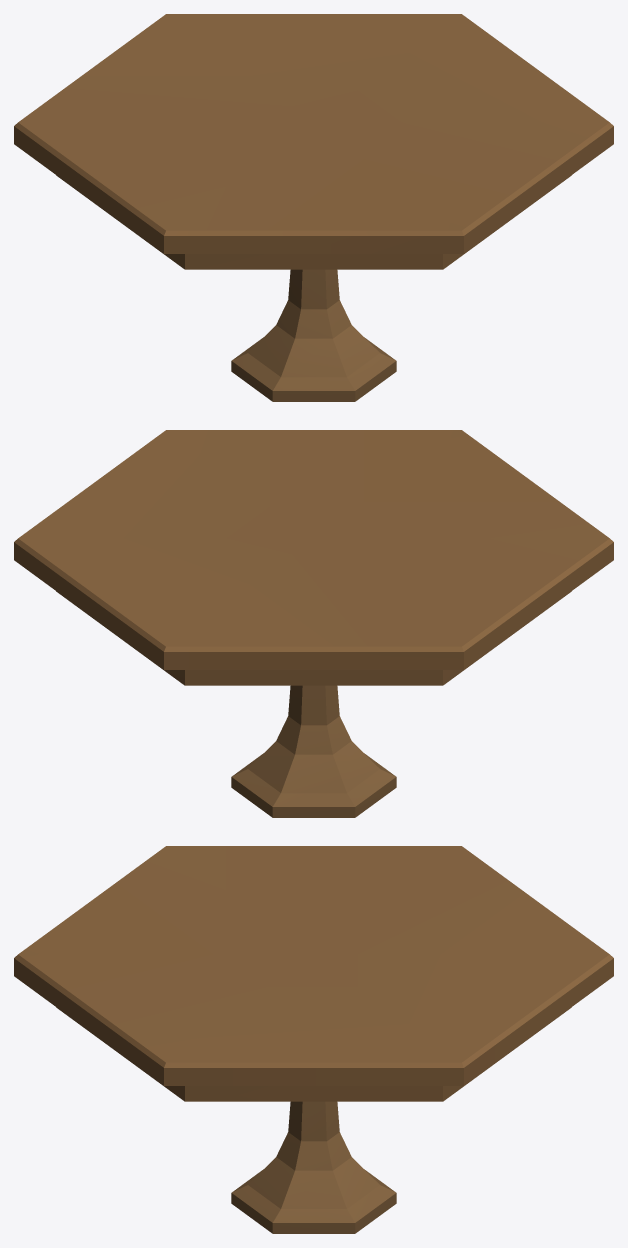
The model's file is table.round.oak.glb.
The picture shows the model from 3 angles, top to bottom: view 1: azimuth 30°, elevation 25°; view 2: azimuth 150°, elevation 25°; view 3: azimuth 270°, elevation 25°; orthographic projection.
Parts seen in each view (by area): view 1: table_round_oak; view 2: table_round_oak; view 3: table_round_oak.
Part boxes in pixels (box(x1,y1,x2,y2)): table_round_oak: box(14, 14, 613, 401); table_round_oak: box(14, 430, 613, 817); table_round_oak: box(14, 846, 613, 1233).
Size of what is drawn, in the model's own units: 1.51 by 0.8 by 1.75.
